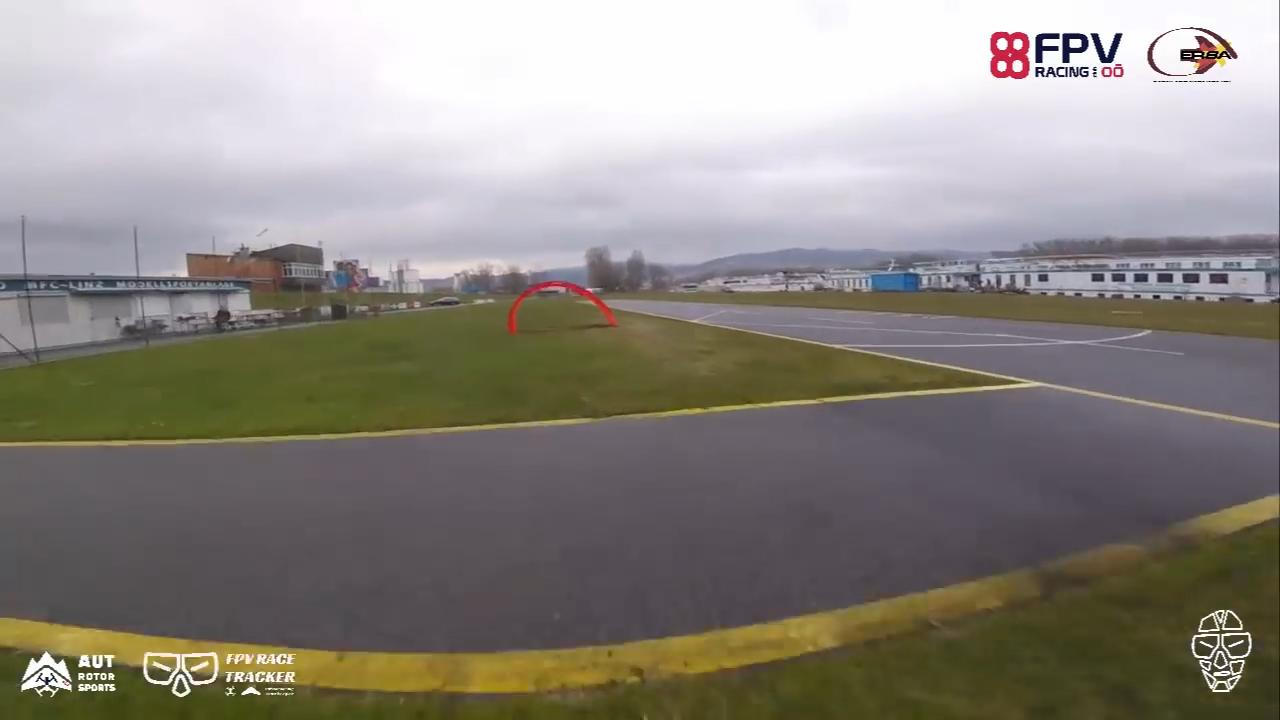gate: (504, 279, 622, 334)
